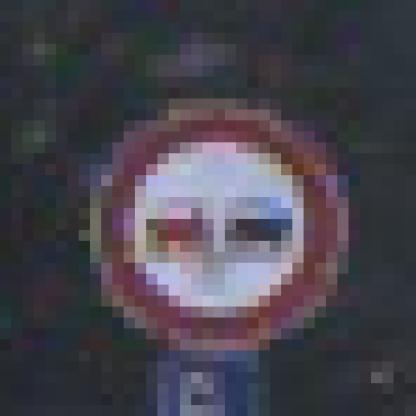No Overtaking: (57, 67, 350, 362)
